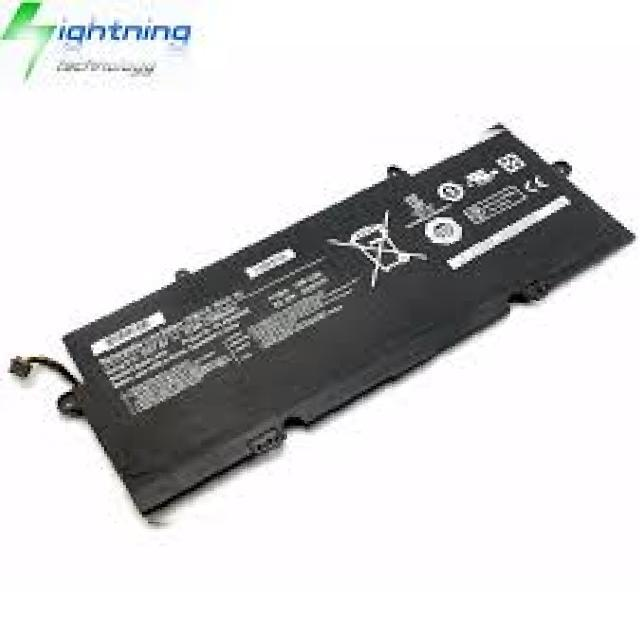Battery: (10, 83, 639, 559)
